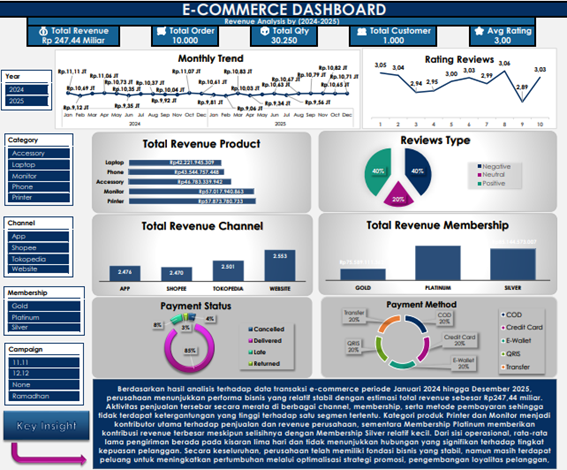

The dashboard page shown, as its layout file describes it:
{"tool":"powerbi","page":{"name":"Page 1","canvas":[1280,720],"ordinal":0},"visuals":[{"type":"cardVisual","title":"Total Order","fields":{"Data":["Count(E-Commerce Query Dashboard.Order_ID)"]},"box":[272,70,250,136],"z":0},{"type":"cardVisual","title":"Total Qty","fields":{"Data":["Sum(E-Commerce Query Dashboard.Qty)"]},"box":[512,70,250,136],"z":1000},{"type":"cardVisual","title":"Total Customer","fields":{"Data":["Count(E-Commerce Query Dashboard.Customer_ID)"]},"box":[752,70,250,136],"z":2000},{"type":"cardVisual","title":"Avg Rating","fields":{"Data":["Avg(E-Commerce Query Dashboard.Rating)"]},"box":[992,70,250,136],"z":3000},{"type":"cardVisual","title":"Total Revenue","fields":{"Data":["Sum(E-Commerce Query Dashboard.Revenue)"]},"box":[24,70,260,136],"z":4000},{"type":"textbox","box":[388,0,466,62],"z":5000},{"type":"slicer","fields":{"Values":["E-Commerce Query Dashboard.Year"]},"box":[62,200,214,76],"z":6000},{"type":"slicer","fields":{"Values":["E-Commerce Query Dashboard.Month"]},"box":[306,198,214,78],"z":7000},{"type":"slicer","fields":{"Values":["E-Commerce Query Dashboard.Payment_Status"]},"box":[786,196,214,80],"z":8000},{"type":"slicer","fields":{"Values":["E-Commerce Query Dashboard.Shipping_Status"]},"box":[546,196,214,80],"z":9000},{"type":"lineChart","title":"Trend Revenue by Quarter","fields":{"Category":["E-Commerce Query Dashboard.Order_Date.Variation.Date Hierarchy.Year","E-Commerce Query Dashboard.Order_Date.Variation.Date Hierarchy.Quarter","E-Commerce Query Dashboard.Order_Date.Variation.Date Hierarchy.Month","E-Commerce Query Dashboard.Order_Date.Variation.Date Hierarchy.Day"],"Y":["Sum(E-Commerce Query Dashboard.Revenue)"]},"box":[0,276.7,786.7,210],"z":10000},{"type":"clusteredBarChart","title":"Revenue by Product","fields":{"Category":["E-Commerce Query Dashboard.Category"],"Y":["Sum(E-Commerce Query Dashboard.Revenue)"]},"box":[786.7,276.7,493.3,210],"z":11000},{"type":"clusteredColumnChart","title":"Revenue by City","fields":{"Category":["E-Commerce Query Dashboard.City"],"Y":["Sum(E-Commerce Query Dashboard.Revenue)"]},"box":[0,486.7,403.3,233.3],"z":11001},{"type":"donutChart","title":"Payment Method","fields":{"Category":["E-Commerce Query Dashboard.Methods"],"Y":["Sum(E-Commerce Query Dashboard.Revenue)"]},"box":[426,486,428,234],"z":11002},{"type":"donutChart","title":"Payment Status","fields":{"Category":["E-Commerce Query Dashboard.Shipping_Status"],"Y":["Sum(E-Commerce Query Dashboard.Revenue)"]},"box":[840,486,440,234],"z":11003}]}

Visuals, with their boxes on the page's 1280x720 design canvas (x1, y1, x2, y2). These are canvas units, not pixel positions in the 567x470 screenshot, which may show the page scaled, cropped or inside an application window:
"Total Order" cardVisual: (x1=272, y1=70, x2=522, y2=206)
"Total Qty" cardVisual: (x1=512, y1=70, x2=762, y2=206)
"Total Customer" cardVisual: (x1=752, y1=70, x2=1002, y2=206)
"Avg Rating" cardVisual: (x1=992, y1=70, x2=1242, y2=206)
"Total Revenue" cardVisual: (x1=24, y1=70, x2=284, y2=206)
textbox: (x1=388, y1=0, x2=854, y2=62)
slicer - E-Commerce Query Dashboard.Year: (x1=62, y1=200, x2=276, y2=276)
slicer - E-Commerce Query Dashboard.Month: (x1=306, y1=198, x2=520, y2=276)
slicer - E-Commerce Query Dashboard.Payment_Status: (x1=786, y1=196, x2=1000, y2=276)
slicer - E-Commerce Query Dashboard.Shipping_Status: (x1=546, y1=196, x2=760, y2=276)
"Trend Revenue by Quarter" lineChart: (x1=0, y1=277, x2=787, y2=487)
"Revenue by Product" clusteredBarChart: (x1=787, y1=277, x2=1280, y2=487)
"Revenue by City" clusteredColumnChart: (x1=0, y1=487, x2=403, y2=720)
"Payment Method" donutChart: (x1=426, y1=486, x2=854, y2=720)
"Payment Status" donutChart: (x1=840, y1=486, x2=1280, y2=720)
